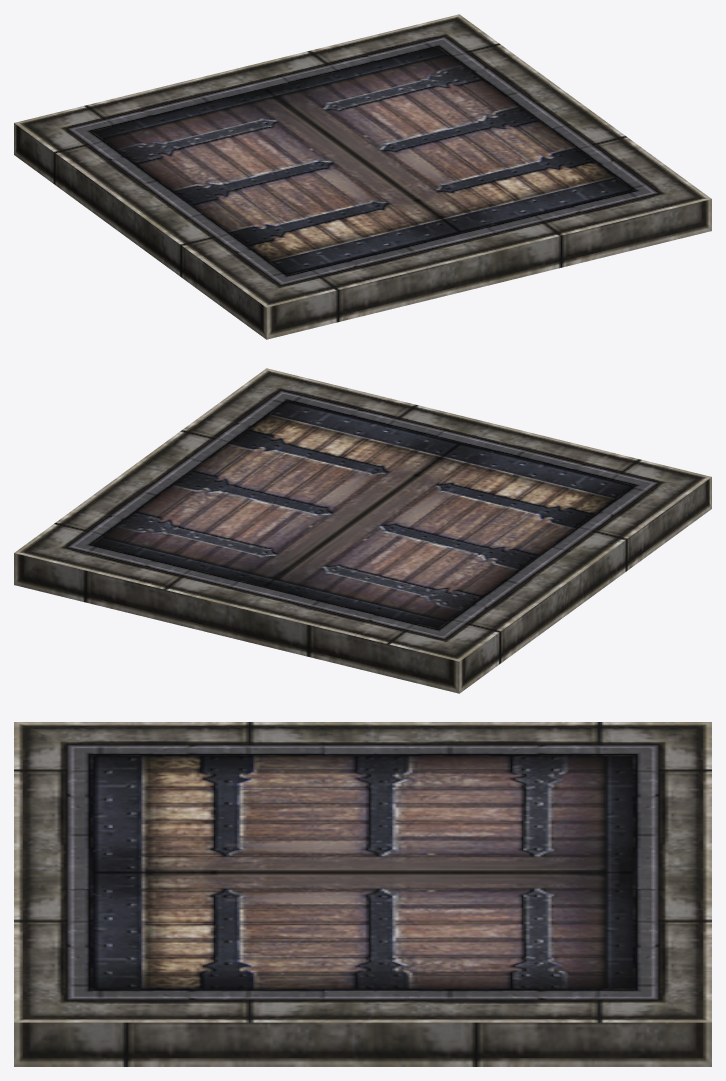
File: ps_hole01.FBX
3 renders of one model, top to bottom at view 1: azimuth 30°, elevation 25°; view 2: azimuth 150°, elevation 25°; view 3: azimuth 270°, elevation 25°, orthographic. The views are drawn at different scales.
Parts seen in each view (by area): view 1: Box001; view 2: Box001; view 3: Box001.
Boxes of the visible parts, x1,y1,x2,y2 form: Box001: [14, 14, 711, 339]; Box001: [14, 368, 711, 693]; Box001: [14, 722, 711, 1066].
Size of the model in its own units: 2050 by 141 by 2013.
1 material, 1 textured.
